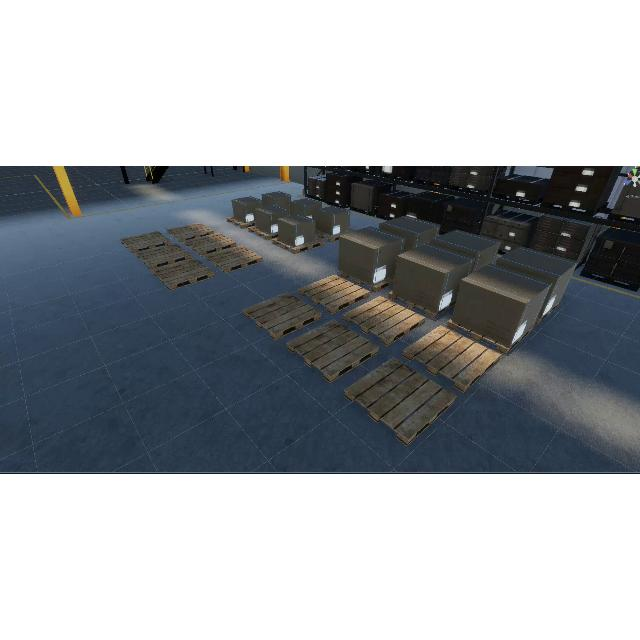wooden_pallet: (344, 358, 456, 448), (402, 325, 501, 393), (287, 319, 379, 384), (342, 296, 425, 347), (242, 291, 322, 341), (446, 320, 534, 355), (298, 274, 370, 316), (152, 257, 216, 291), (388, 290, 456, 319), (205, 245, 263, 274), (135, 243, 192, 270), (184, 232, 236, 256), (342, 271, 395, 293), (120, 231, 170, 254), (166, 222, 214, 242), (272, 236, 325, 254), (248, 225, 279, 240), (226, 216, 256, 229)
